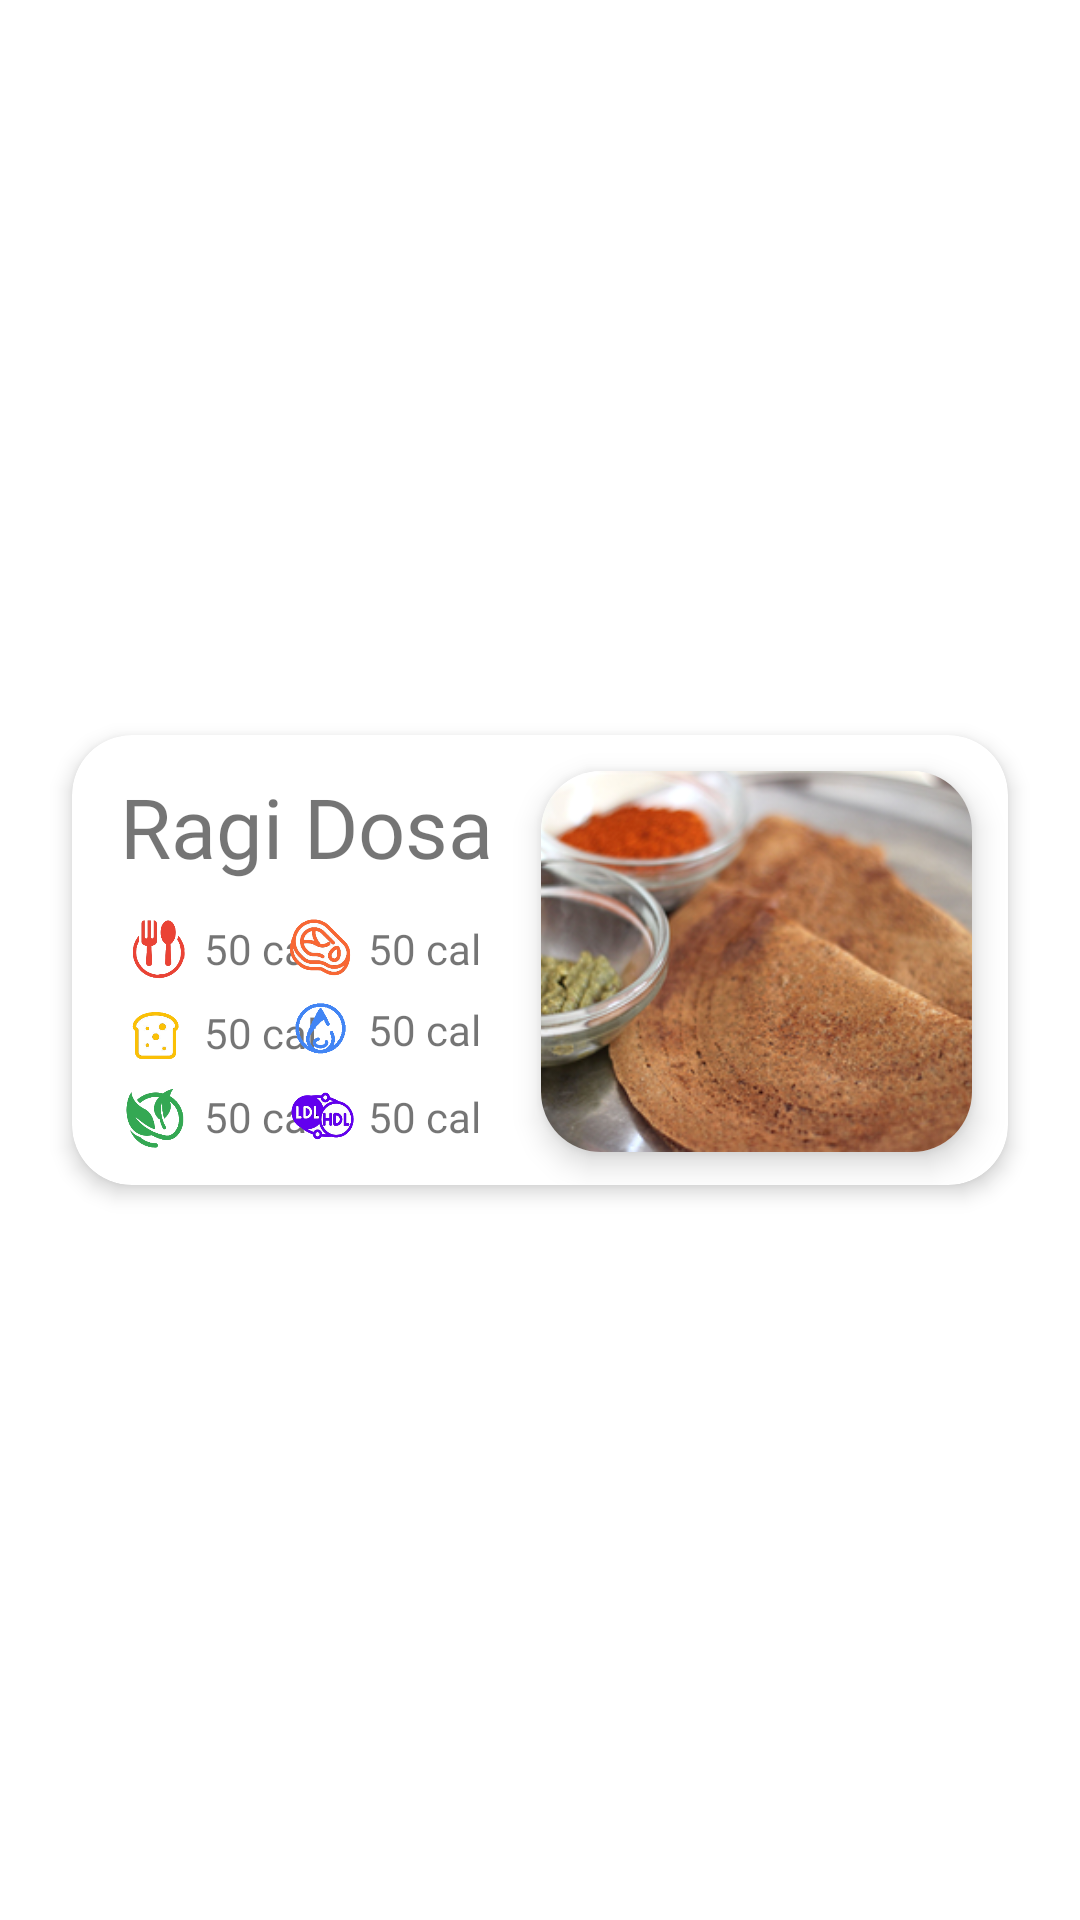

Point at icon controls on the screen. Image size 1080×1920, points as (x,y).
calorific: (159,949)
carb: (155,1035)
cholestrol nu: (320,1115)
fat: (316,1028)
fibre: (155,1118)
protein: (318,947)
